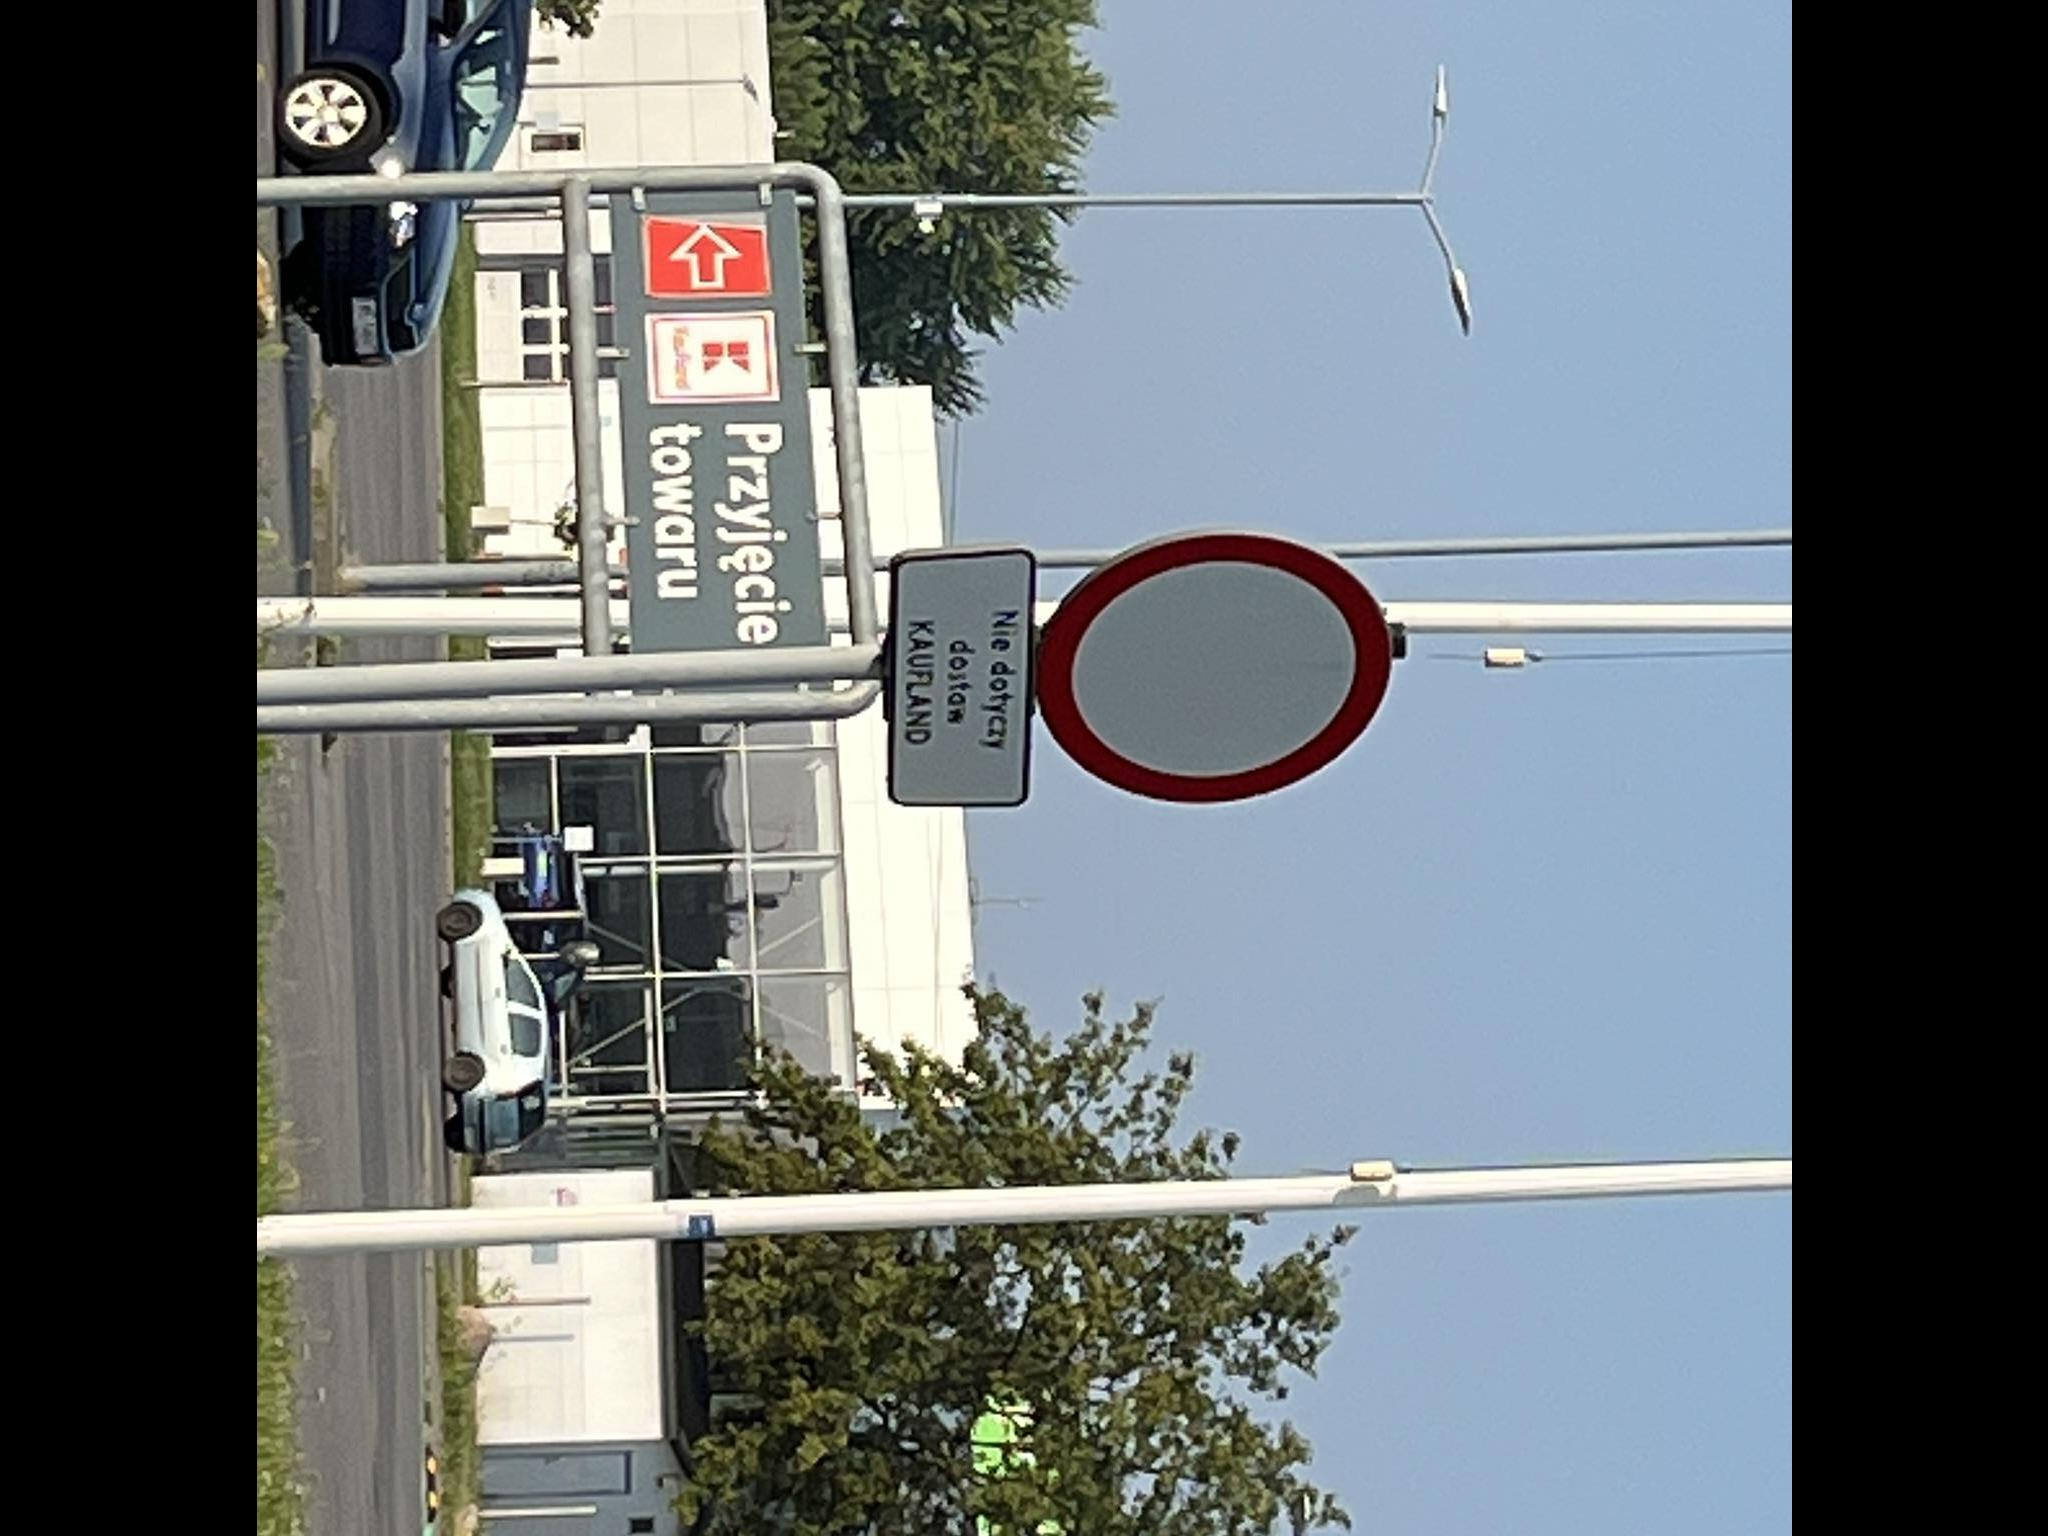prohibitory: (1030, 530, 1392, 808)
